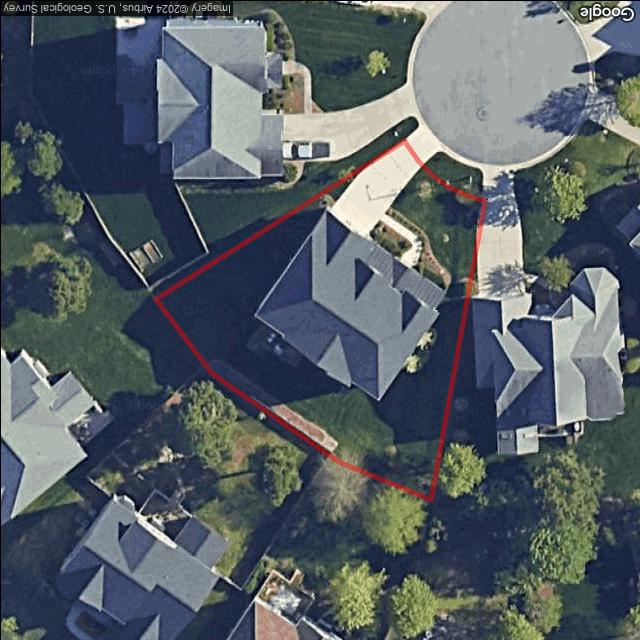Driveway: (326, 142, 420, 236)
Extra-Driveway: (402, 126, 439, 168)
Extra-Lawn: (422, 150, 482, 199)
House: (253, 209, 446, 401)
Lawn: (157, 139, 483, 499)
Other: (203, 358, 339, 453), (384, 206, 452, 290), (244, 321, 304, 375), (367, 219, 411, 257), (404, 328, 437, 372)
Sidewalk: (379, 213, 421, 266)
